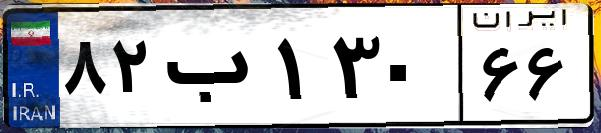0: (385, 28, 445, 110)
1: (270, 28, 330, 110)
2: (110, 28, 158, 98)
3: (330, 28, 385, 110)
6: (475, 38, 525, 113), (525, 38, 570, 115)
8: (57, 26, 110, 100)
ب: (158, 20, 270, 120)
